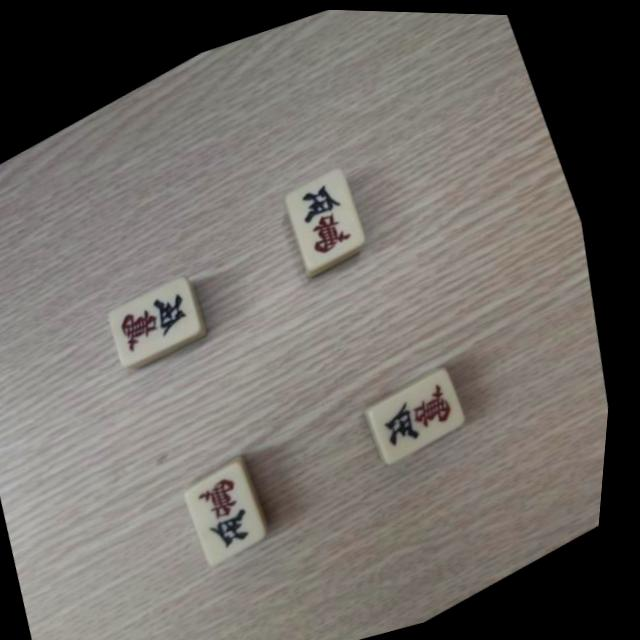sc5: (187, 450, 288, 557), (107, 264, 216, 357), (374, 361, 483, 454), (281, 160, 376, 261)
